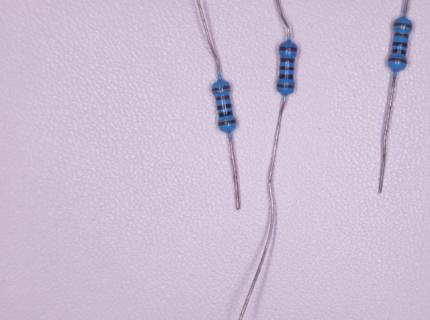Black band: (216, 104, 230, 111), (219, 111, 232, 118), (278, 74, 293, 79), (393, 50, 406, 55), (393, 43, 407, 47), (280, 67, 295, 70)
Brown band: (219, 119, 236, 127), (212, 86, 230, 92), (394, 32, 409, 39), (389, 58, 407, 63), (394, 23, 412, 28), (216, 95, 230, 101), (280, 58, 295, 63), (279, 47, 297, 51), (277, 84, 294, 88)
